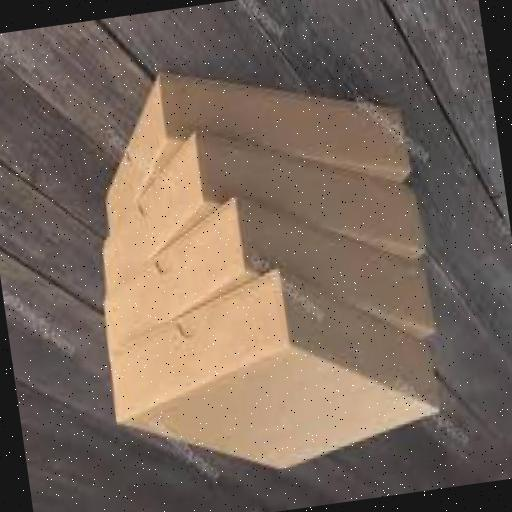cardboard: (97, 252, 444, 493), (87, 176, 434, 386), (86, 43, 414, 242), (82, 108, 424, 298)
